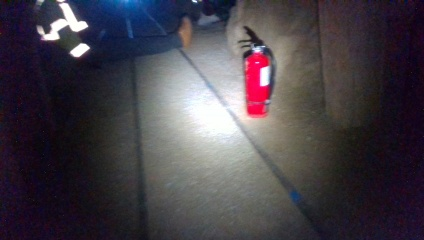fire_extinguisher: (235, 32, 277, 119)
manikin: (31, 3, 193, 65)
